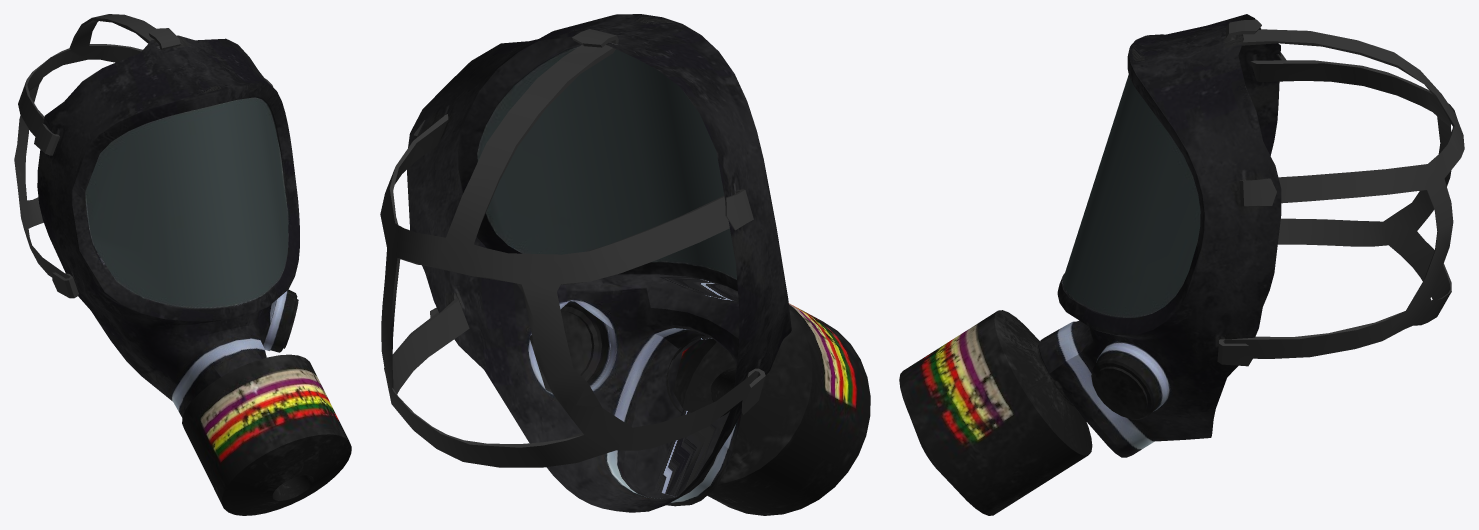
File: gasMask.glb
3 renders of one model, left to right at view 1: azimuth 30°, elevation 25°; view 2: azimuth 150°, elevation 25°; view 3: azimuth 270°, elevation 25°, orthographic. The views are drawn at different scales.
Visible parts, largest first — view 1: gasMask; view 2: gasMask; view 3: gasMask.
Boxes of the visible parts, box(x1,y1,x2,y2) form: gasMask: box(14, 14, 351, 515); gasMask: box(380, 14, 870, 515); gasMask: box(899, 14, 1464, 515).
Size of what is drawn, in the model's own units: 0.2871 by 0.4812 by 0.5117.
1 material, 1 textured.
